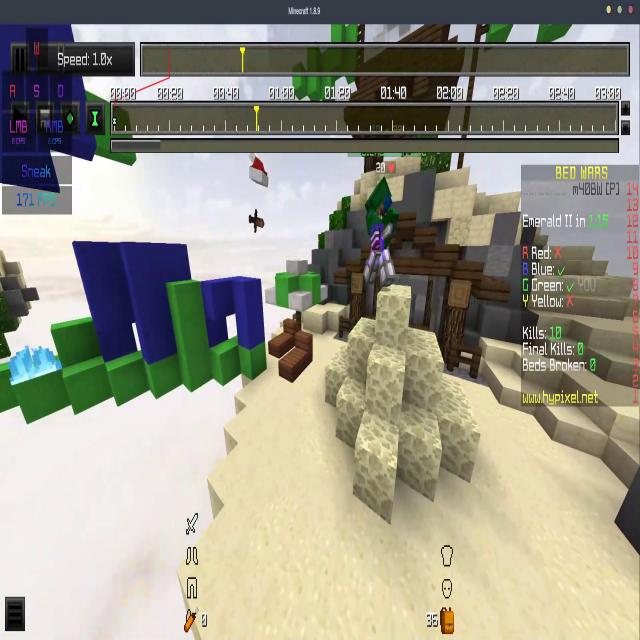Player: (360, 159, 398, 291)
